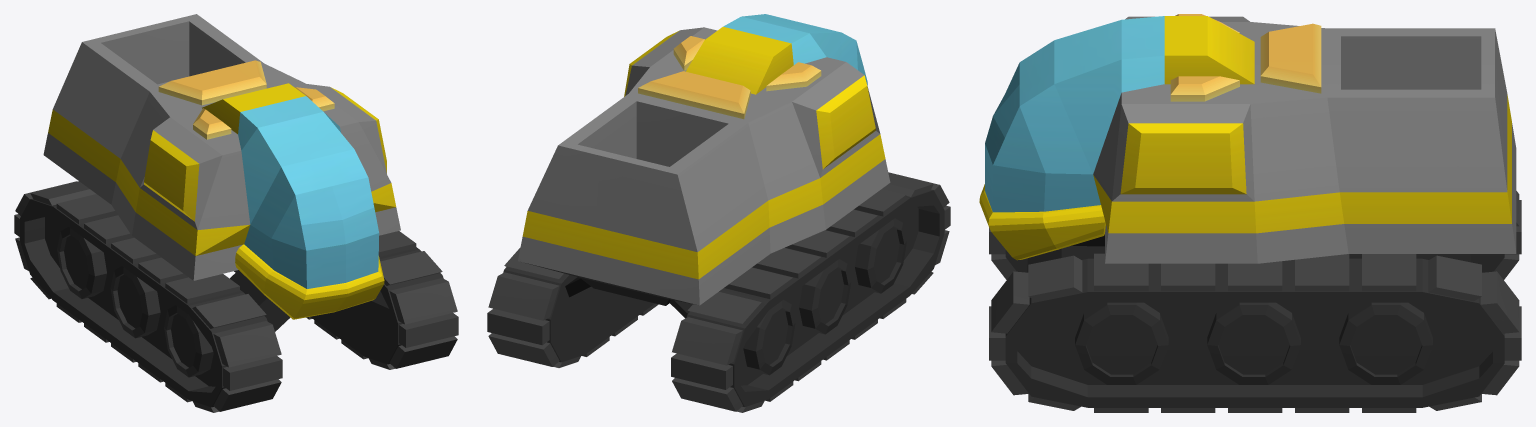
The model's file is Drone_truck.obj.
3 renders of one model, left to right at view 1: azimuth 30°, elevation 25°; view 2: azimuth 150°, elevation 25°; view 3: azimuth 270°, elevation 25°, orthographic. The views are drawn at different scales.
Visible parts, largest first — view 1: Drone_truck; view 2: Drone_truck; view 3: Drone_truck.
Boxes of the visible parts, x1=… form: Drone_truck: x1=14, y1=14, x2=458, y2=412; Drone_truck: x1=487, y1=14, x2=950, y2=412; Drone_truck: x1=979, y1=14, x2=1521, y2=412.
Bounding box in the file's own units: 5.68 × 5.86 × 9.34.
